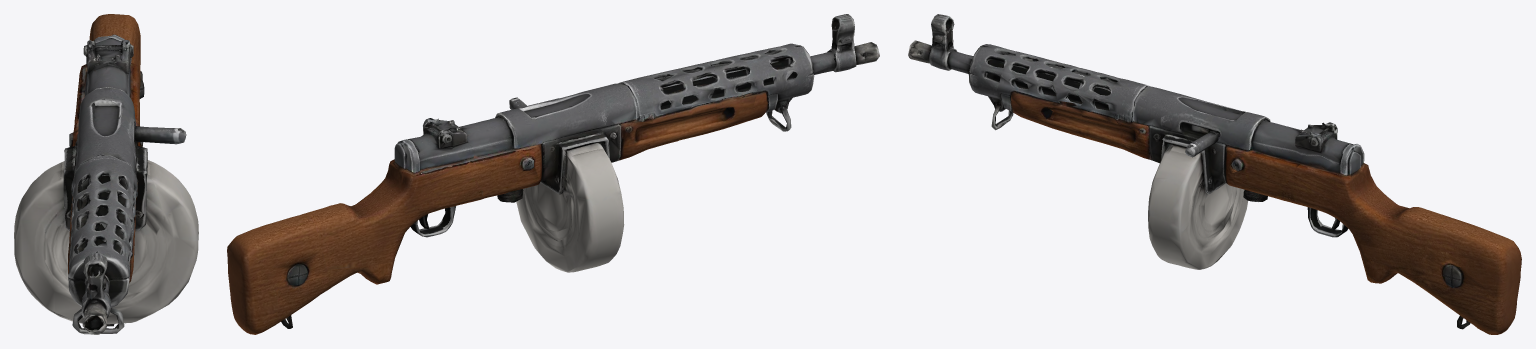
The model's file is drum-rifle.glb.
The picture shows the model from 3 angles, left to right: view 1: azimuth 30°, elevation 25°; view 2: azimuth 150°, elevation 25°; view 3: azimuth 270°, elevation 25°; orthographic projection. The views are drawn at different scales.
Visible parts, largest first — view 1: tripo_node_4ef8b958-b388-4053-a6fc-bb488715918b; view 2: tripo_node_4ef8b958-b388-4053-a6fc-bb488715918b; view 3: tripo_node_4ef8b958-b388-4053-a6fc-bb488715918b.
Part boxes in pixels (x1,y1,x2,y2): tripo_node_4ef8b958-b388-4053-a6fc-bb488715918b: [14, 14, 198, 334]; tripo_node_4ef8b958-b388-4053-a6fc-bb488715918b: [227, 14, 879, 334]; tripo_node_4ef8b958-b388-4053-a6fc-bb488715918b: [908, 14, 1521, 334].
Size of the model in its own units: 0.6233 by 0.3183 by 0.9801.
Materials: 1 (1 with a texture image).
